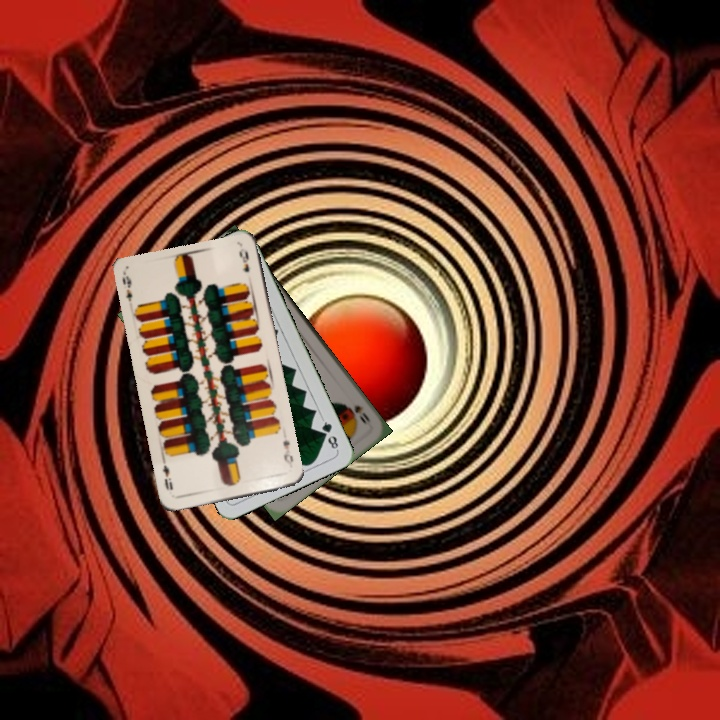E9: (279, 436, 296, 470), (118, 271, 135, 304)
G8: (318, 415, 341, 453)
SO: (350, 401, 373, 428)
